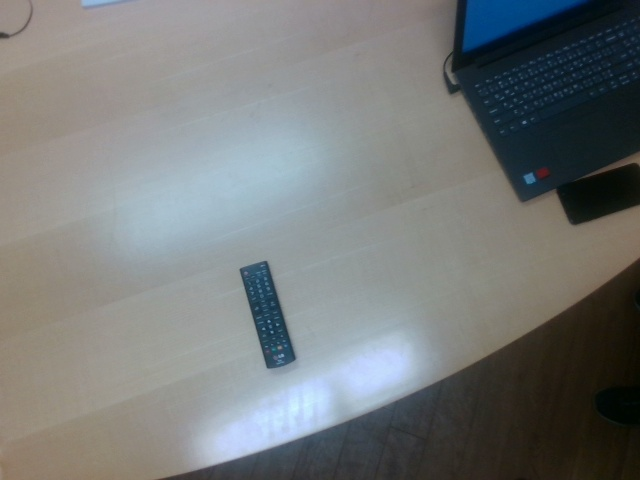remote: (238, 260, 299, 370)
